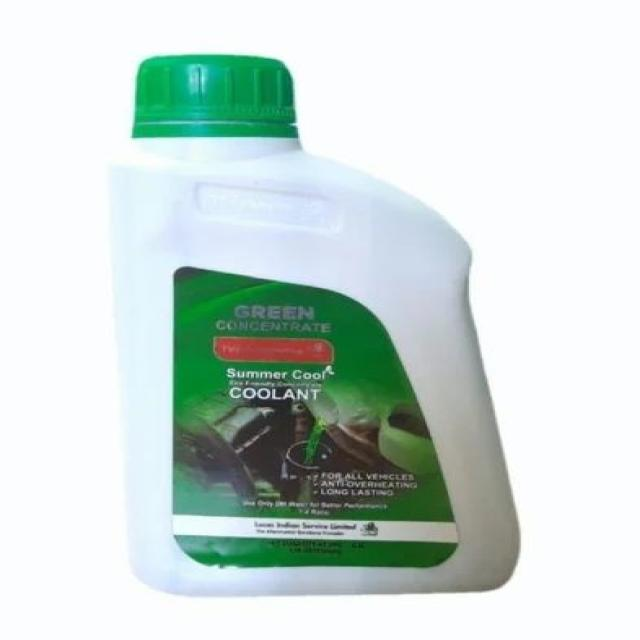coolant: (105, 44, 528, 604)
